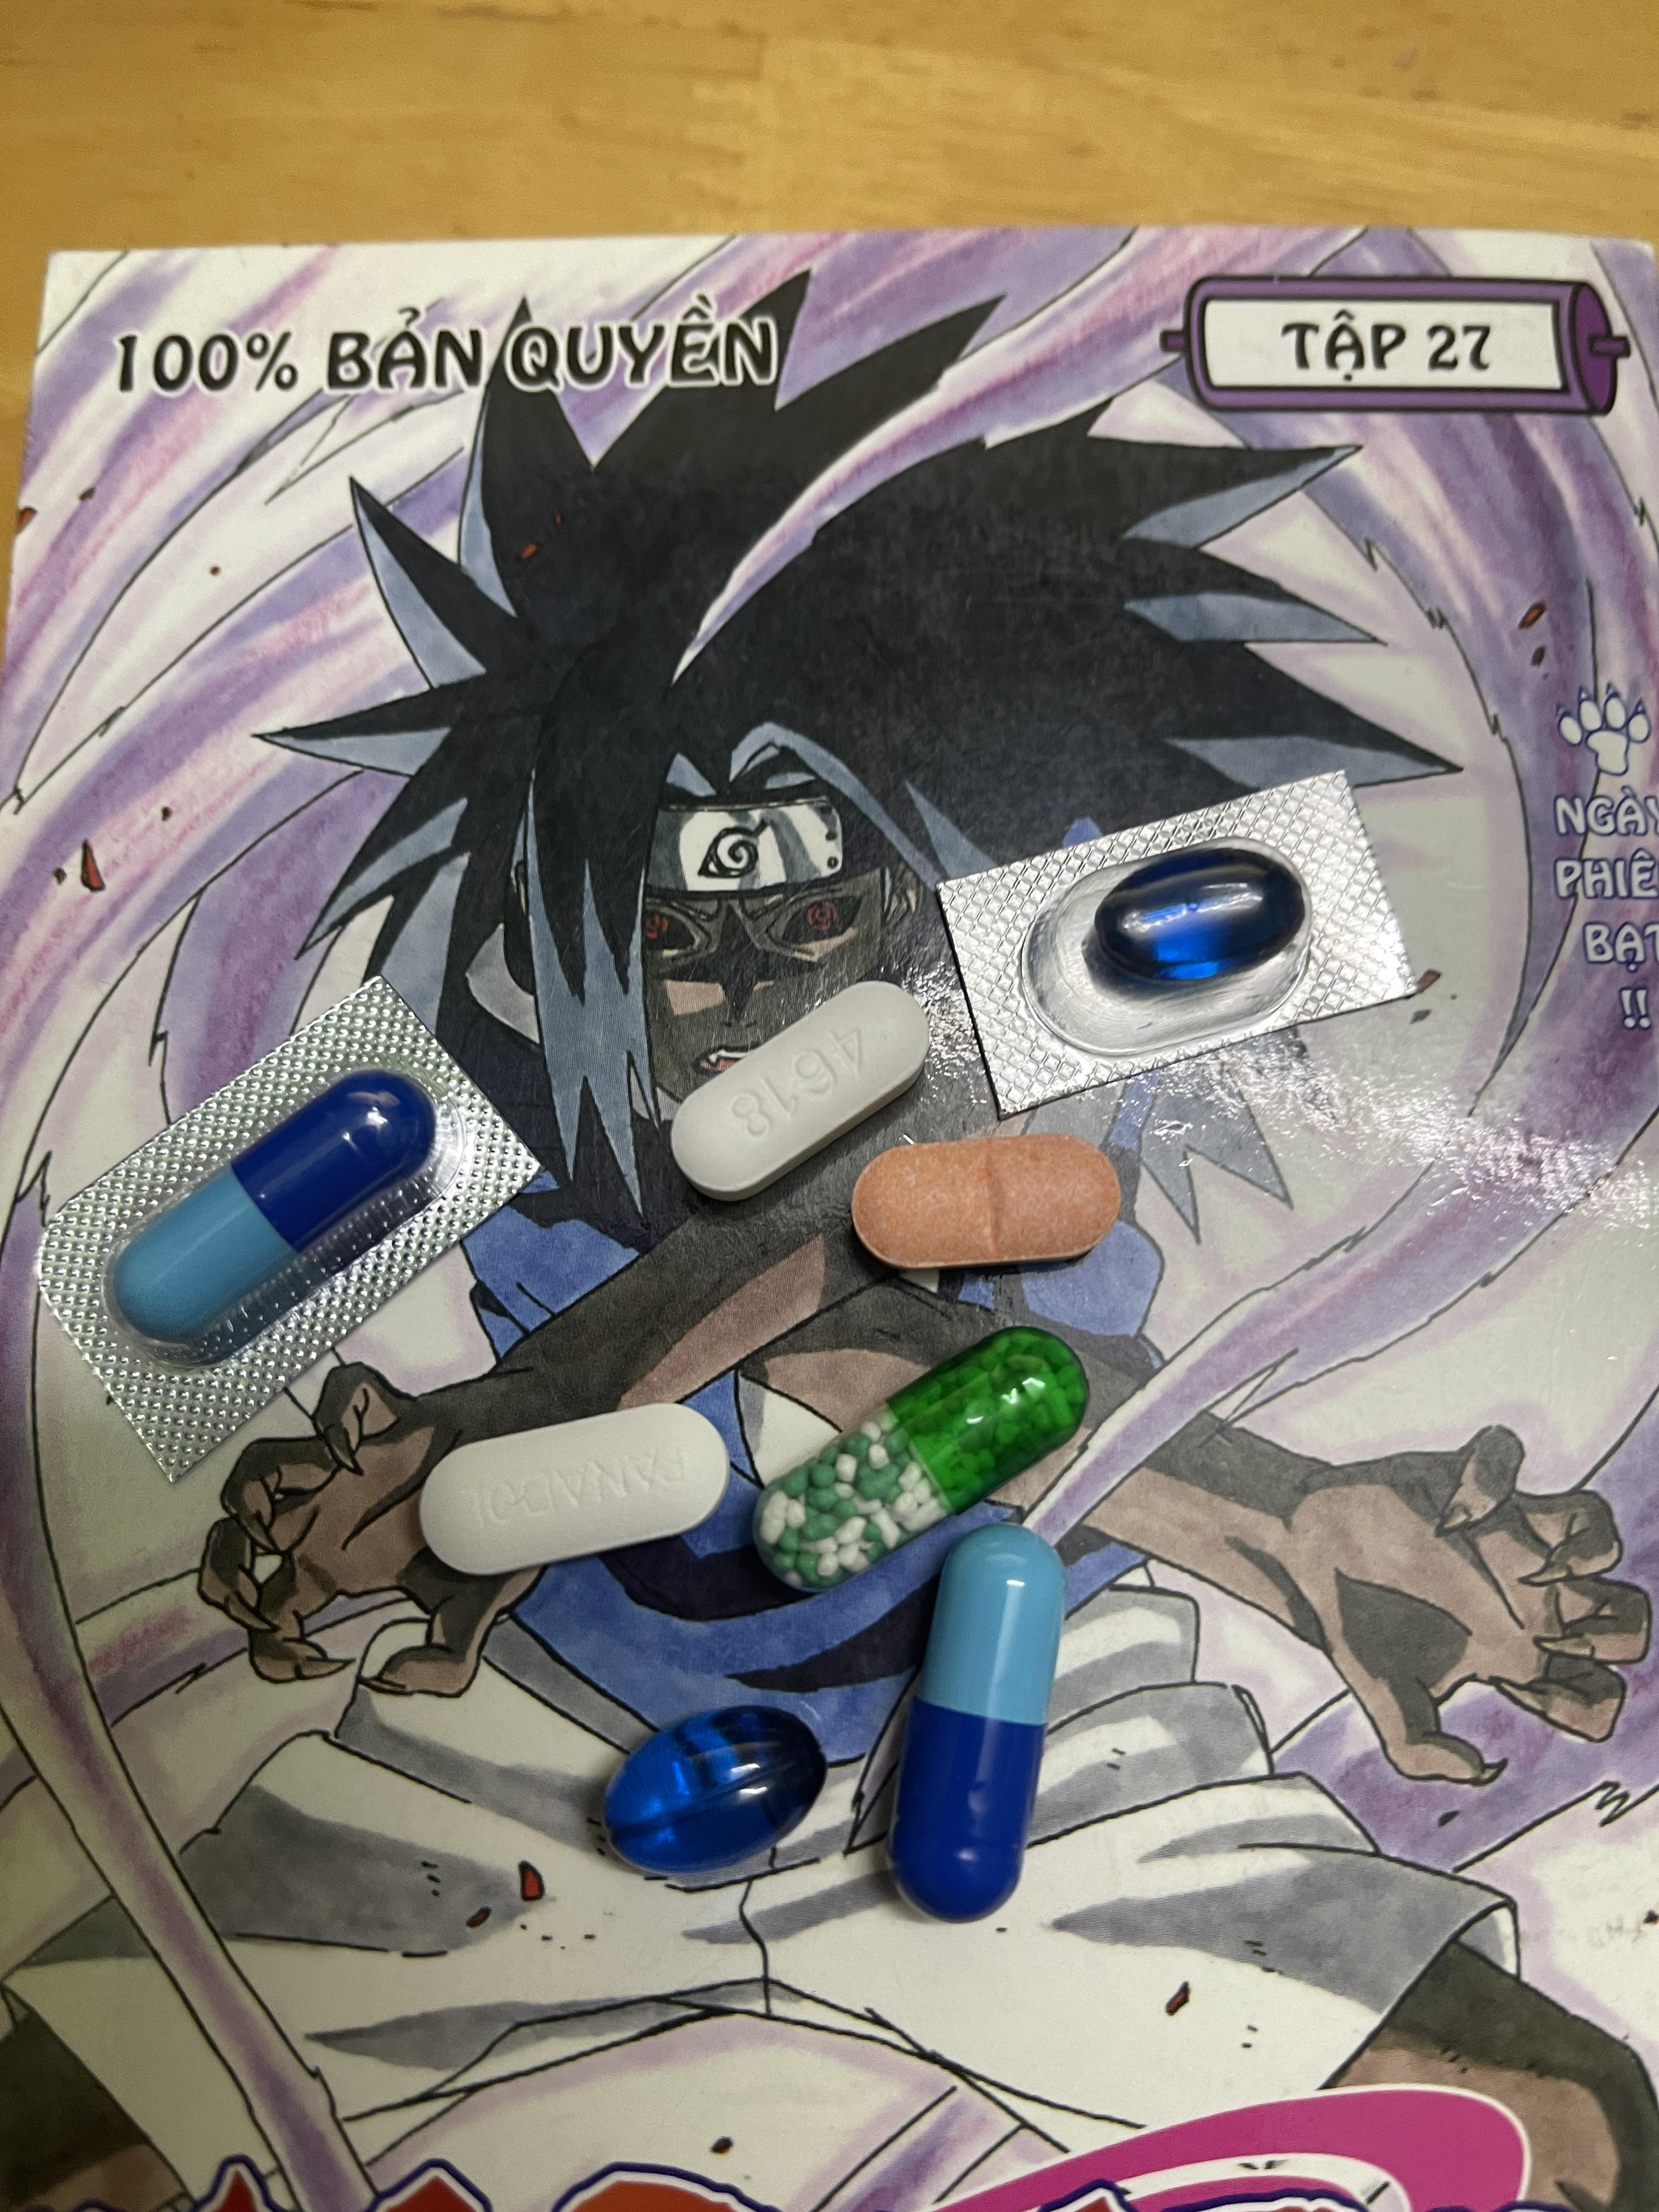Lincomyxin_500mg: (603, 1707, 819, 1865), (1086, 845, 1297, 988)
Loratadine_10mg: (852, 1132, 1121, 1270)
Paracetamol_350mg: (420, 1406, 728, 1571)
Paracetamol_500mg: (669, 981, 929, 1191)
Paracetamol_650mg: (753, 1332, 1082, 1578)
pill: (115, 1076, 425, 1339), (885, 1521, 1065, 1926)
